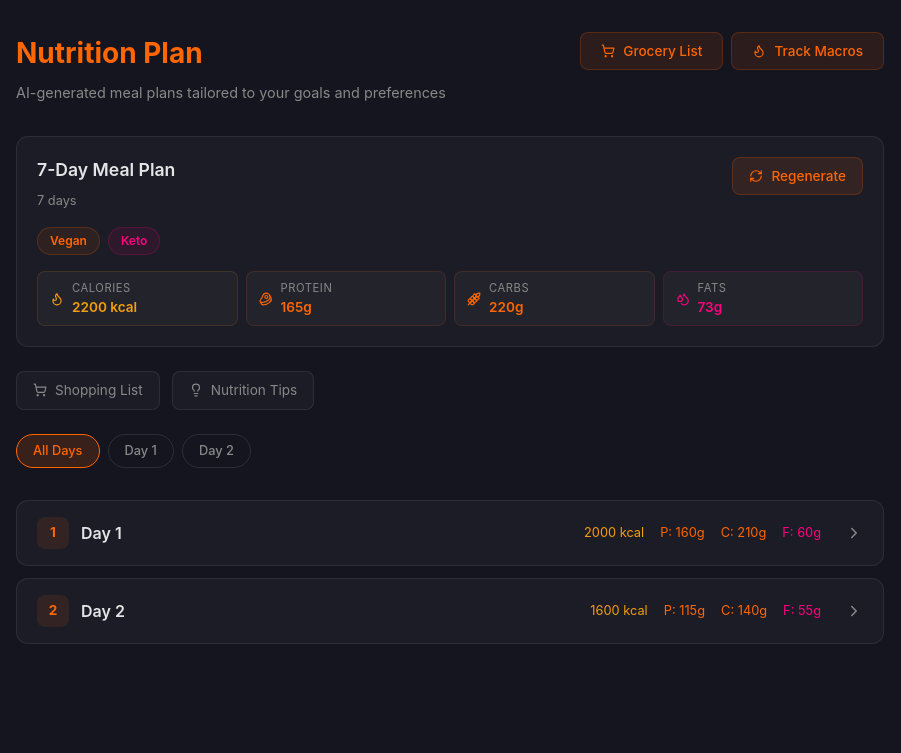
Scenario: NutritionPage › expands day card to show meals when clicked
// Click day 1 header
Click the button with test id "day-header-day_1" at (53, 533), box [17,500,883,564]
(page scrolled)
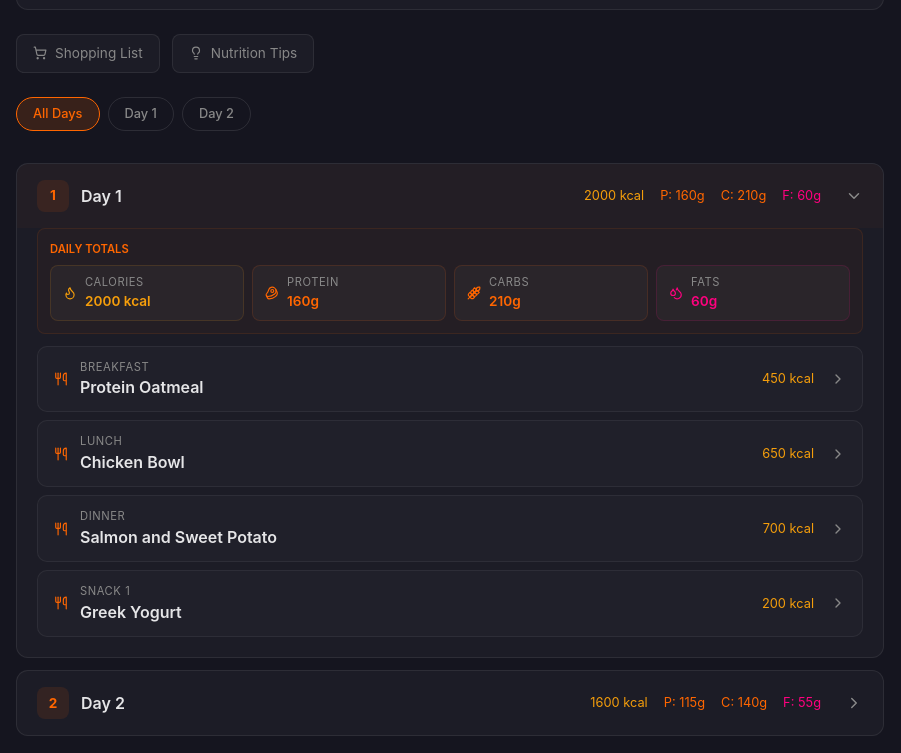
Now the text "Protein Oatmeal" is shown, box [80,375,204,399]
Now the text "Chicken Bowl" is shown, box [80,450,185,474]
Now the text "Salmon and Sweet Potato" is shown, box [80,525,277,549]
